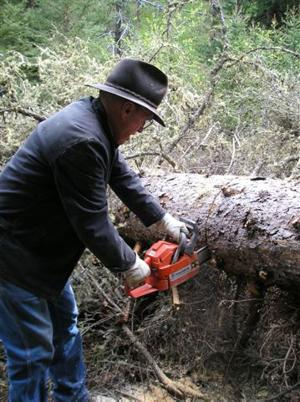person: (2, 58, 191, 402)
